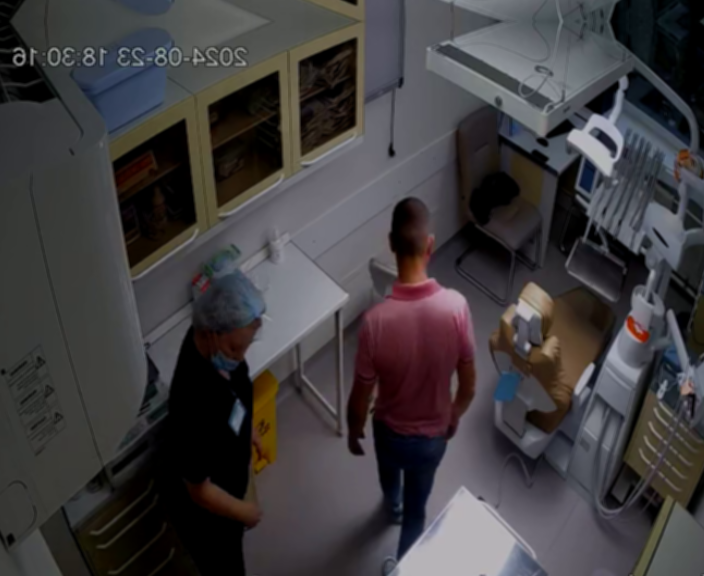Empty: (490, 280, 609, 450)
